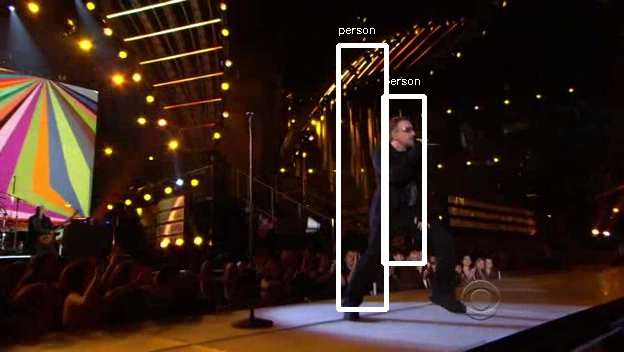person: (368, 116, 440, 245), (365, 116, 437, 245), (371, 116, 443, 245), (368, 113, 440, 242), (368, 119, 440, 248)
target_negative: (557, 72, 620, 327), (170, 160, 458, 188), (97, 109, 209, 169), (370, 250, 596, 276), (158, 332, 557, 335), (534, 305, 561, 321)
